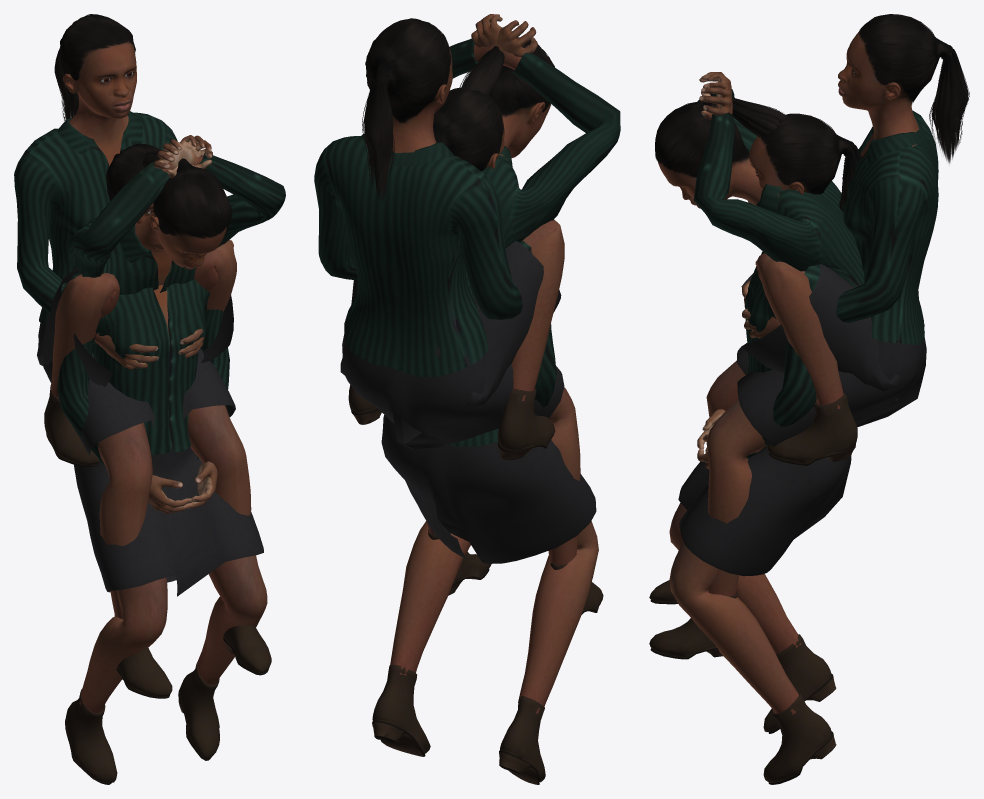
File: civ_frau2.glb
The picture shows the model from 3 angles, left to right: view 1: azimuth 30°, elevation 25°; view 2: azimuth 150°, elevation 25°; view 3: azimuth 270°, elevation 25°; orthographic projection. The views are drawn at different scales.
Visible parts, largest first — view 1: lie, seat, cower; view 2: seat, lie, cower; view 3: seat, lie, cower.
Part boxes in pixels (x1,y1,x2,y2): lie: (57,143,267,784); seat: (14,14,271,698); cower: (37,135,285,466); seat: (314,18,603,614); lie: (372,86,598,784); cower: (340,14,620,460); seat: (649,14,969,659); lie: (669,113,861,784); cower: (655,72,901,465).
Bounding box in the file's own units: 0.4858 × 1.64 × 0.6413.
Materials: 7 (7 with a texture image).
